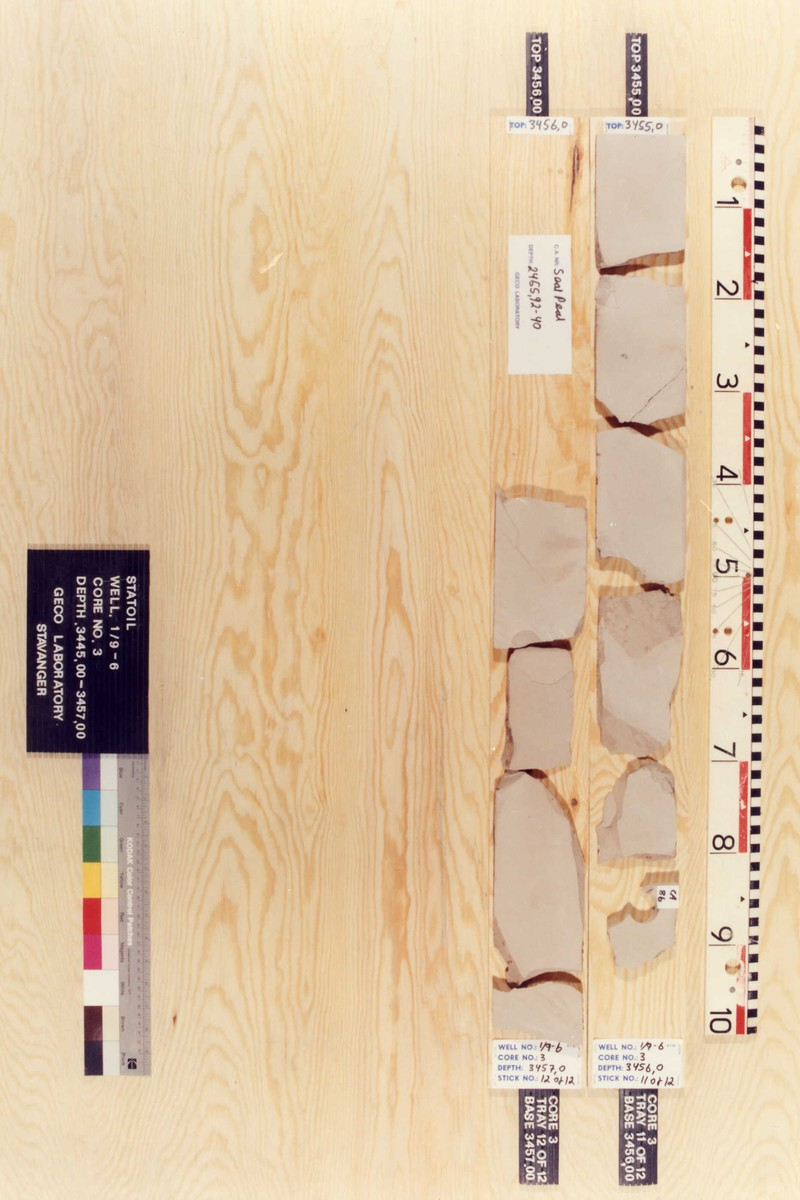core: (593, 132, 691, 968), (492, 487, 589, 1046)
